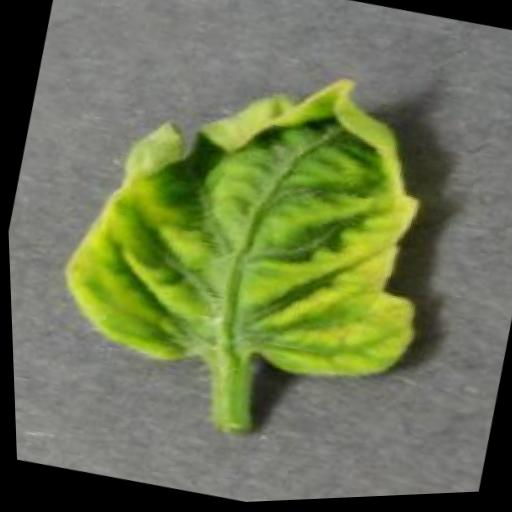Yellow Leaf Curl Virus: (41, 19, 470, 419)
